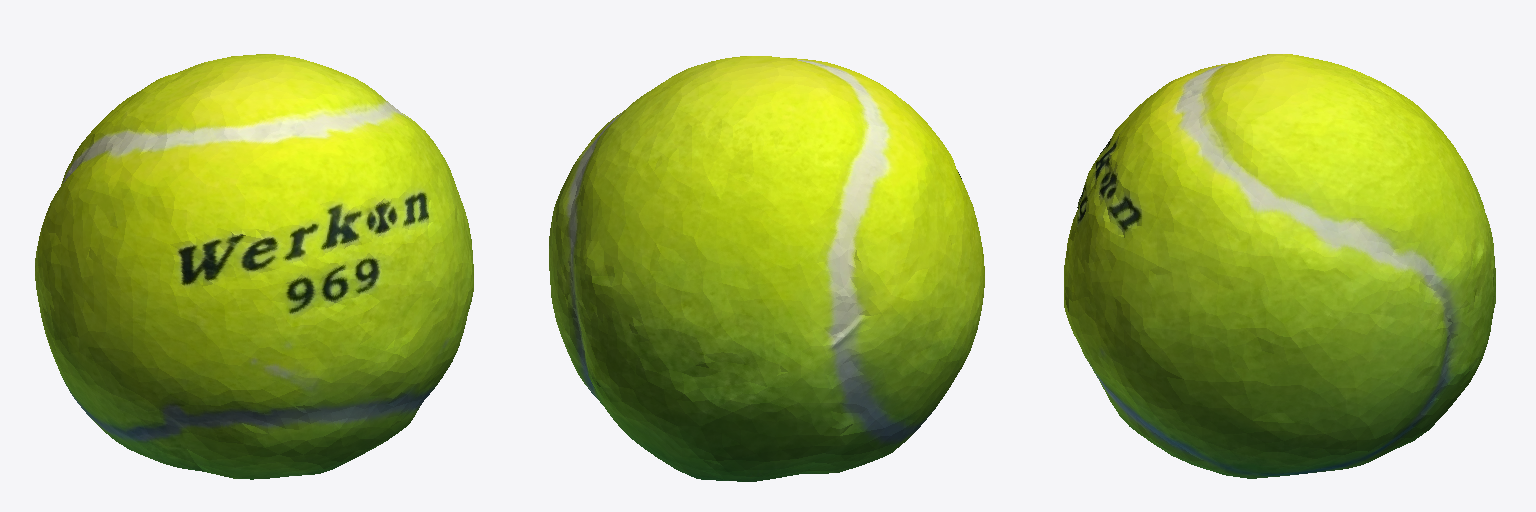
3 renders of one model, left to right at view 1: azimuth 30°, elevation 25°; view 2: azimuth 150°, elevation 25°; view 3: azimuth 270°, elevation 25°, orthographic.
Parts seen in each view (by area): view 1: Mesh; view 2: Mesh; view 3: Mesh.
Boxes of the visible parts, x1,y1,x2,y2 form: Mesh: [35, 54, 473, 479]; Mesh: [549, 56, 984, 481]; Mesh: [1064, 54, 1495, 478].
Bounding box in the file's own units: 0.0656 × 0.0599 × 0.0644.
Materials: 1 (1 with a texture image).